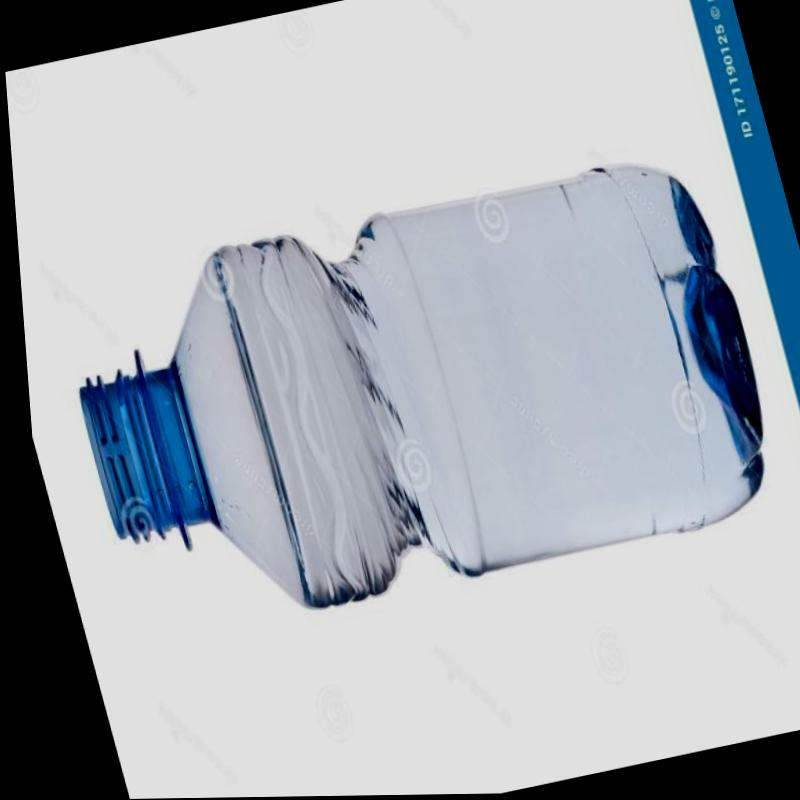botella: (34, 143, 795, 653)
